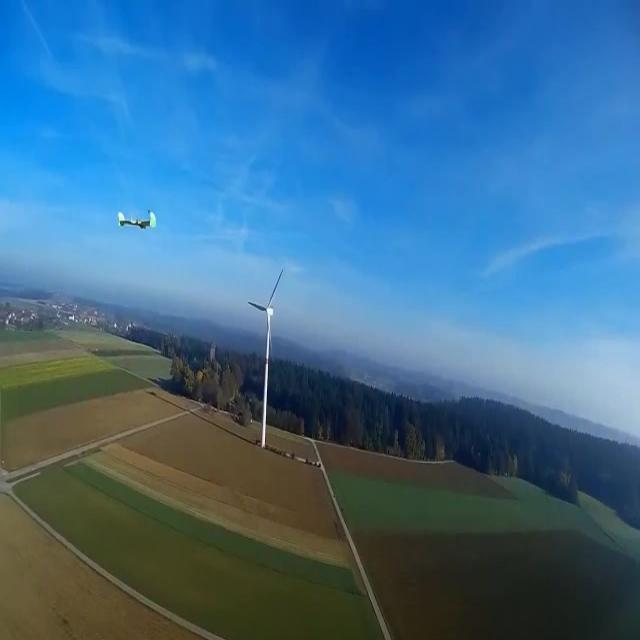iha: (111, 207, 152, 232)
